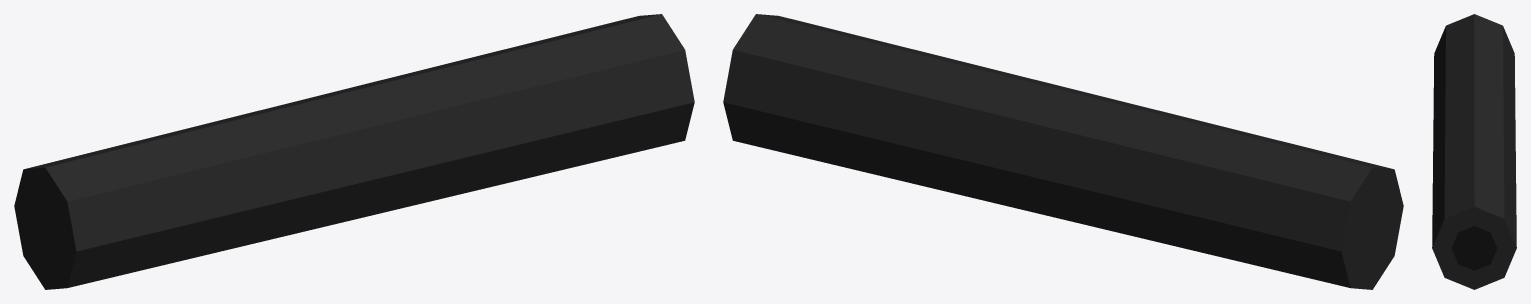
Rendered from Accesories_Silencer_V2.FBX.
The picture shows the model from 3 angles, left to right: view 1: azimuth 30°, elevation 25°; view 2: azimuth 150°, elevation 25°; view 3: azimuth 270°, elevation 25°; orthographic projection. The views are drawn at different scales.
Parts seen in each view (by area): view 1: Accesories_Silencer_V2; view 2: Accesories_Silencer_V2; view 3: Accesories_Silencer_V2.
Boxes of the visible parts, left/top/right/bottom form: Accesories_Silencer_V2: left=14, top=14, right=694, bottom=289; Accesories_Silencer_V2: left=723, top=14, right=1403, bottom=289; Accesories_Silencer_V2: left=1432, top=14, right=1516, bottom=289.
Size of the model in its own units: 149 by 29.78 by 27.46.
